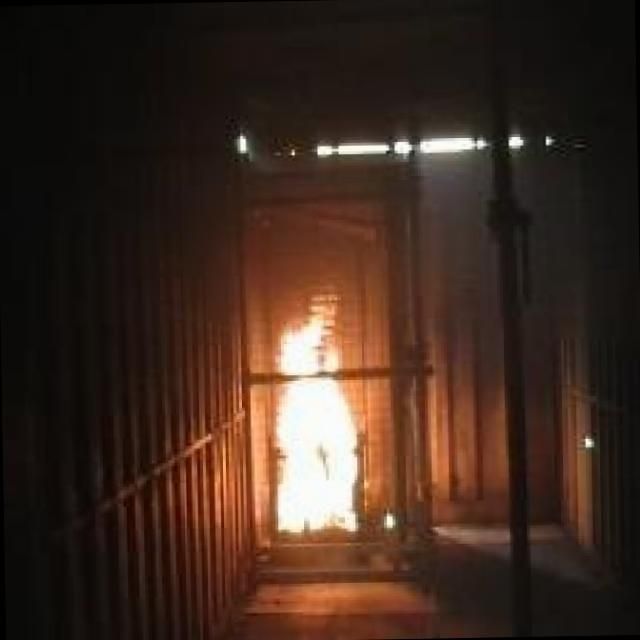fire: (252, 286, 371, 548)
